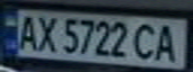2: (109, 18, 133, 60), (93, 17, 115, 57)
5: (57, 15, 81, 55)
7: (75, 16, 96, 55)
A: (151, 20, 184, 63), (12, 11, 42, 52)
C: (130, 20, 160, 61)
X: (33, 12, 60, 53)
